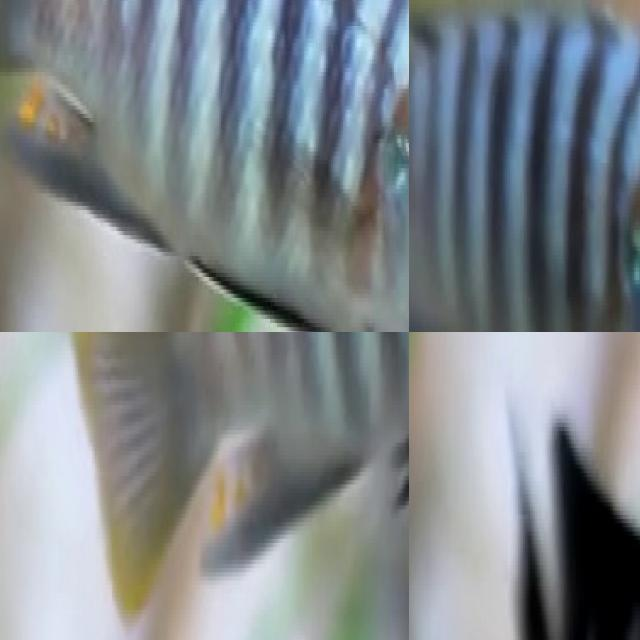fish: (0, 0, 409, 332), (409, 0, 640, 332), (497, 376, 640, 640)
